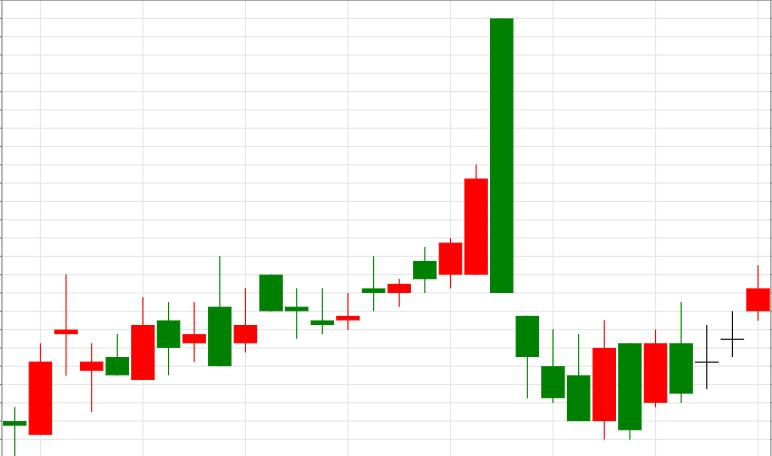bearish_engulfing_fall: (311, 19, 513, 336)
